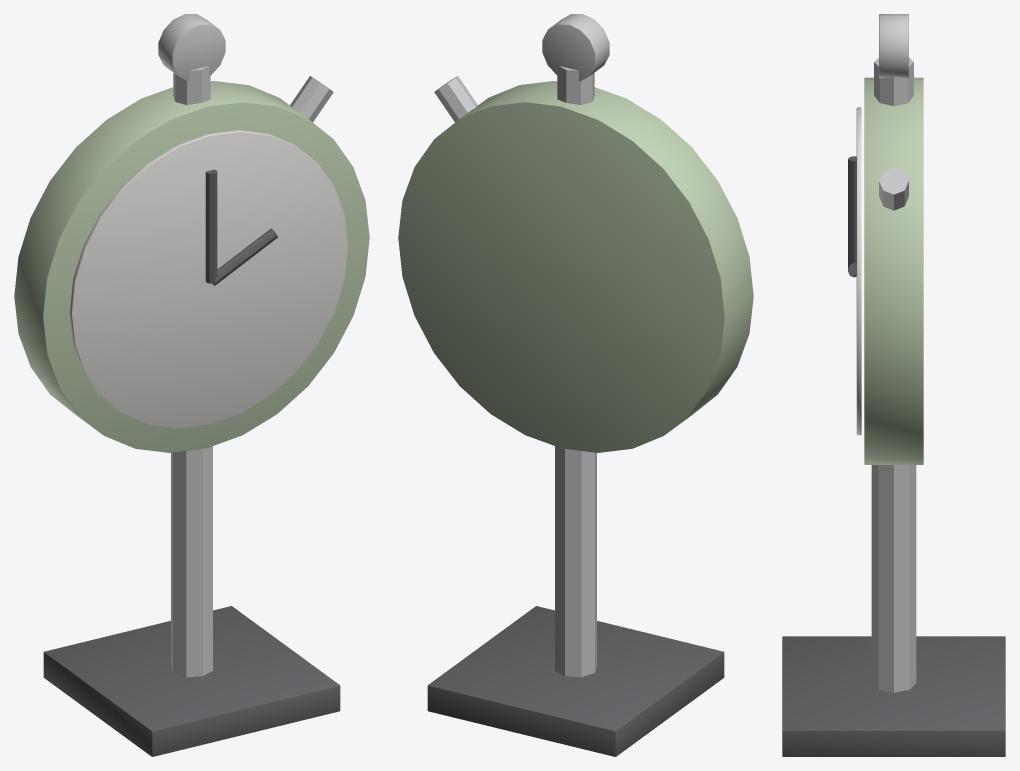
The model's file is perk_run_and_gun.gltf.
The picture shows the model from 3 angles, left to right: view 1: azimuth 30°, elevation 25°; view 2: azimuth 150°, elevation 25°; view 3: azimuth 270°, elevation 25°; orthographic projection. The views are drawn at different scales.
Visible parts, largest first — view 1: Body, Glow; view 2: Body; view 3: Body, Glow.
Part boxes in pixels (x1,y1,x2,y2): Body: (14,14,369,756); Glow: (69,130,347,428); Body: (398,14,753,756); Body: (782,14,1005,756); Glow: (856,107,861,435).
Bounding box in the file's own units: 1.56 × 3.08 × 0.9.
